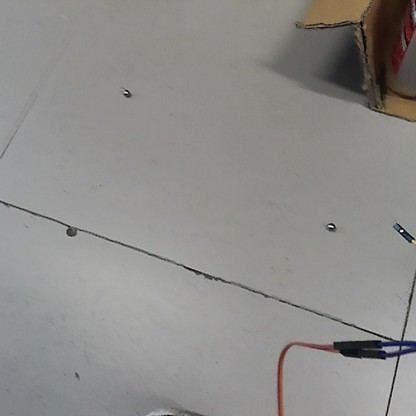ironball: (323, 221, 335, 234), (118, 86, 130, 98)
